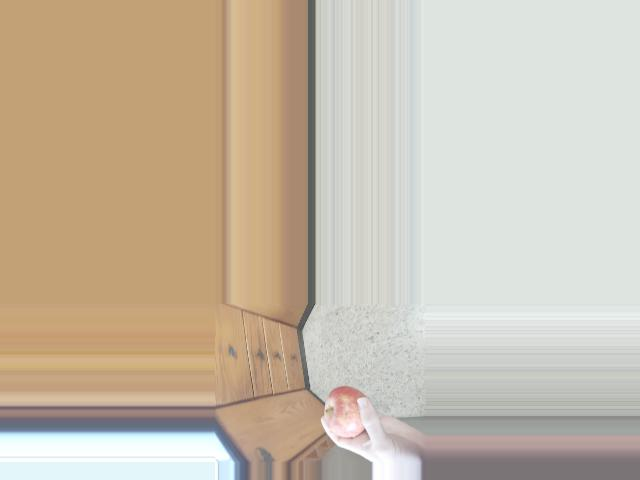apple: (320, 385, 378, 444)
